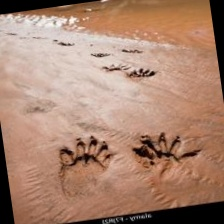raccoon: (46, 132, 122, 203), (130, 129, 205, 183)
